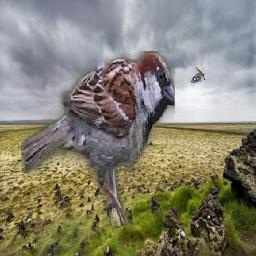Sparrow: (21, 52, 175, 227)
Woodpecker: (191, 67, 206, 84)
